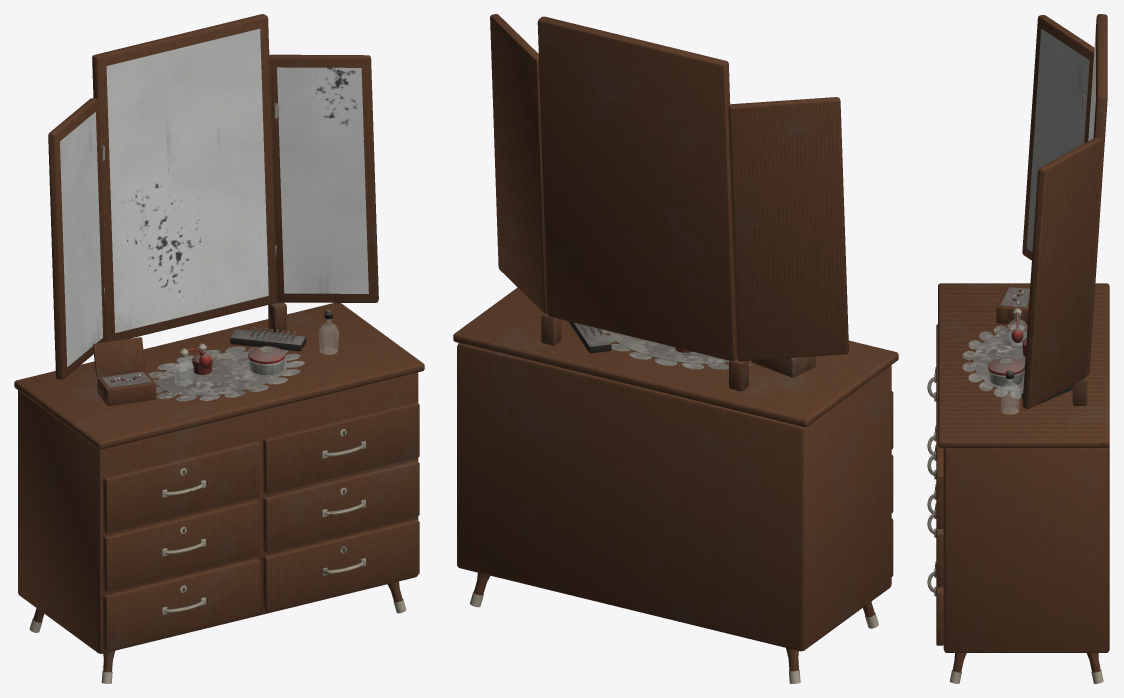
The model's file is SM_Dresser_Mirror.fbx.
3 renders of one model, left to right at view 1: azimuth 30°, elevation 25°; view 2: azimuth 150°, elevation 25°; view 3: azimuth 270°, elevation 25°, orthographic. The views are drawn at different scales.
Visible parts, largest first — view 1: SM_Dresser_Mirror; view 2: SM_Dresser_Mirror; view 3: SM_Dresser_Mirror.
Boxes of the visible parts, box(x1,y1,x2,y2) form: SM_Dresser_Mirror: box(14, 14, 424, 683); SM_Dresser_Mirror: box(453, 14, 898, 683); SM_Dresser_Mirror: box(927, 14, 1109, 683).
Size of the model in its own units: 1.02 by 1.67 by 0.4945.
Materials: 2 (1 with a texture image).
